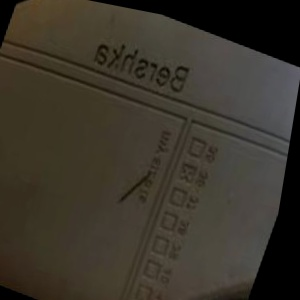bershka: (151, 26, 253, 70)
